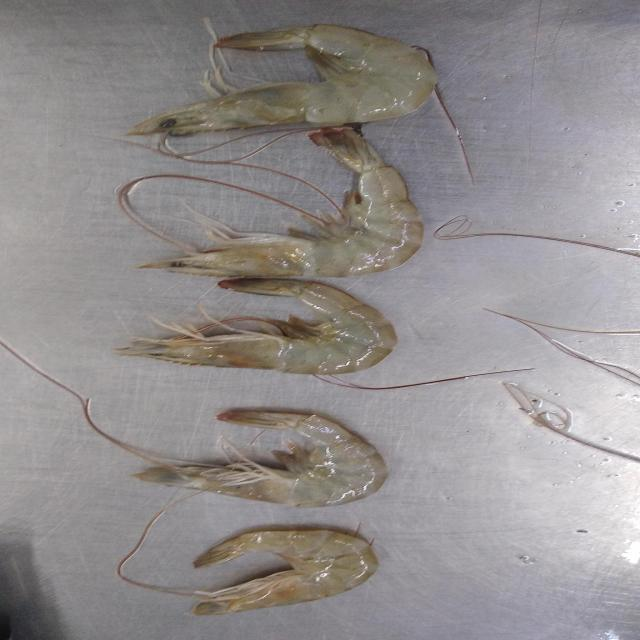shrimp: (140, 126, 424, 278), (129, 25, 438, 136), (118, 279, 398, 375), (133, 411, 389, 508), (191, 530, 378, 615)
